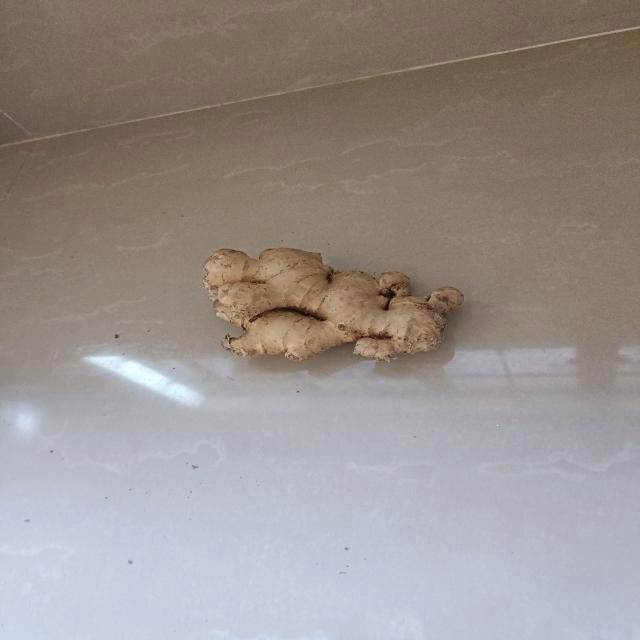ginger: (202, 246, 465, 366)
